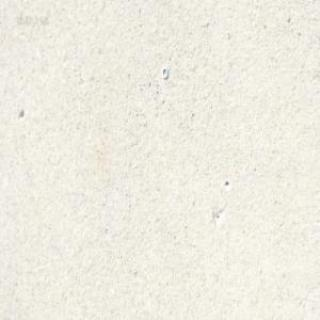Washertrack_idkeyframe: (160, 66, 167, 78)
